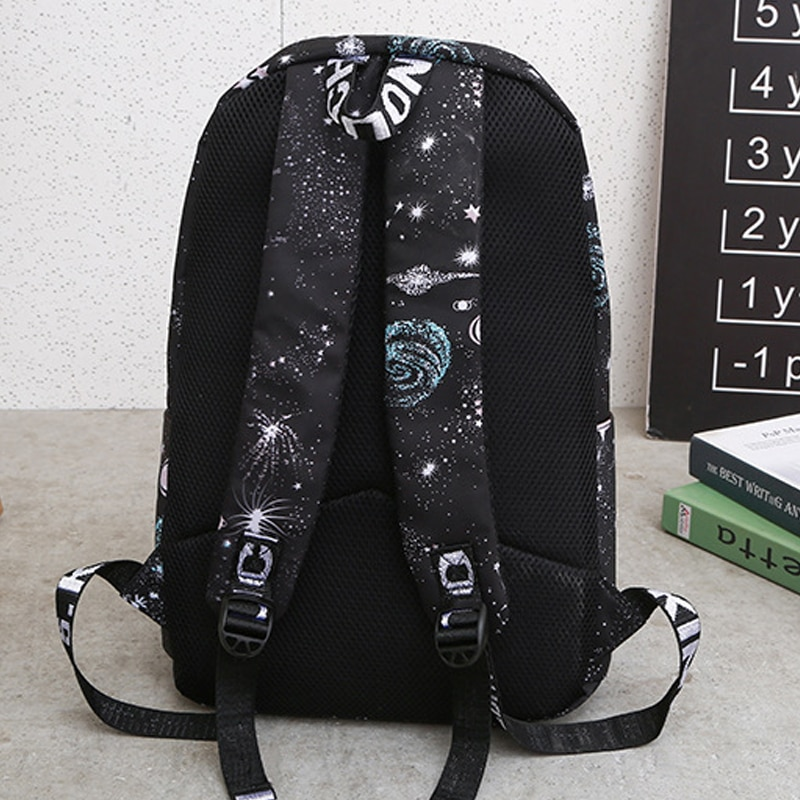Men's Backpacks: (44, 34, 705, 800)
